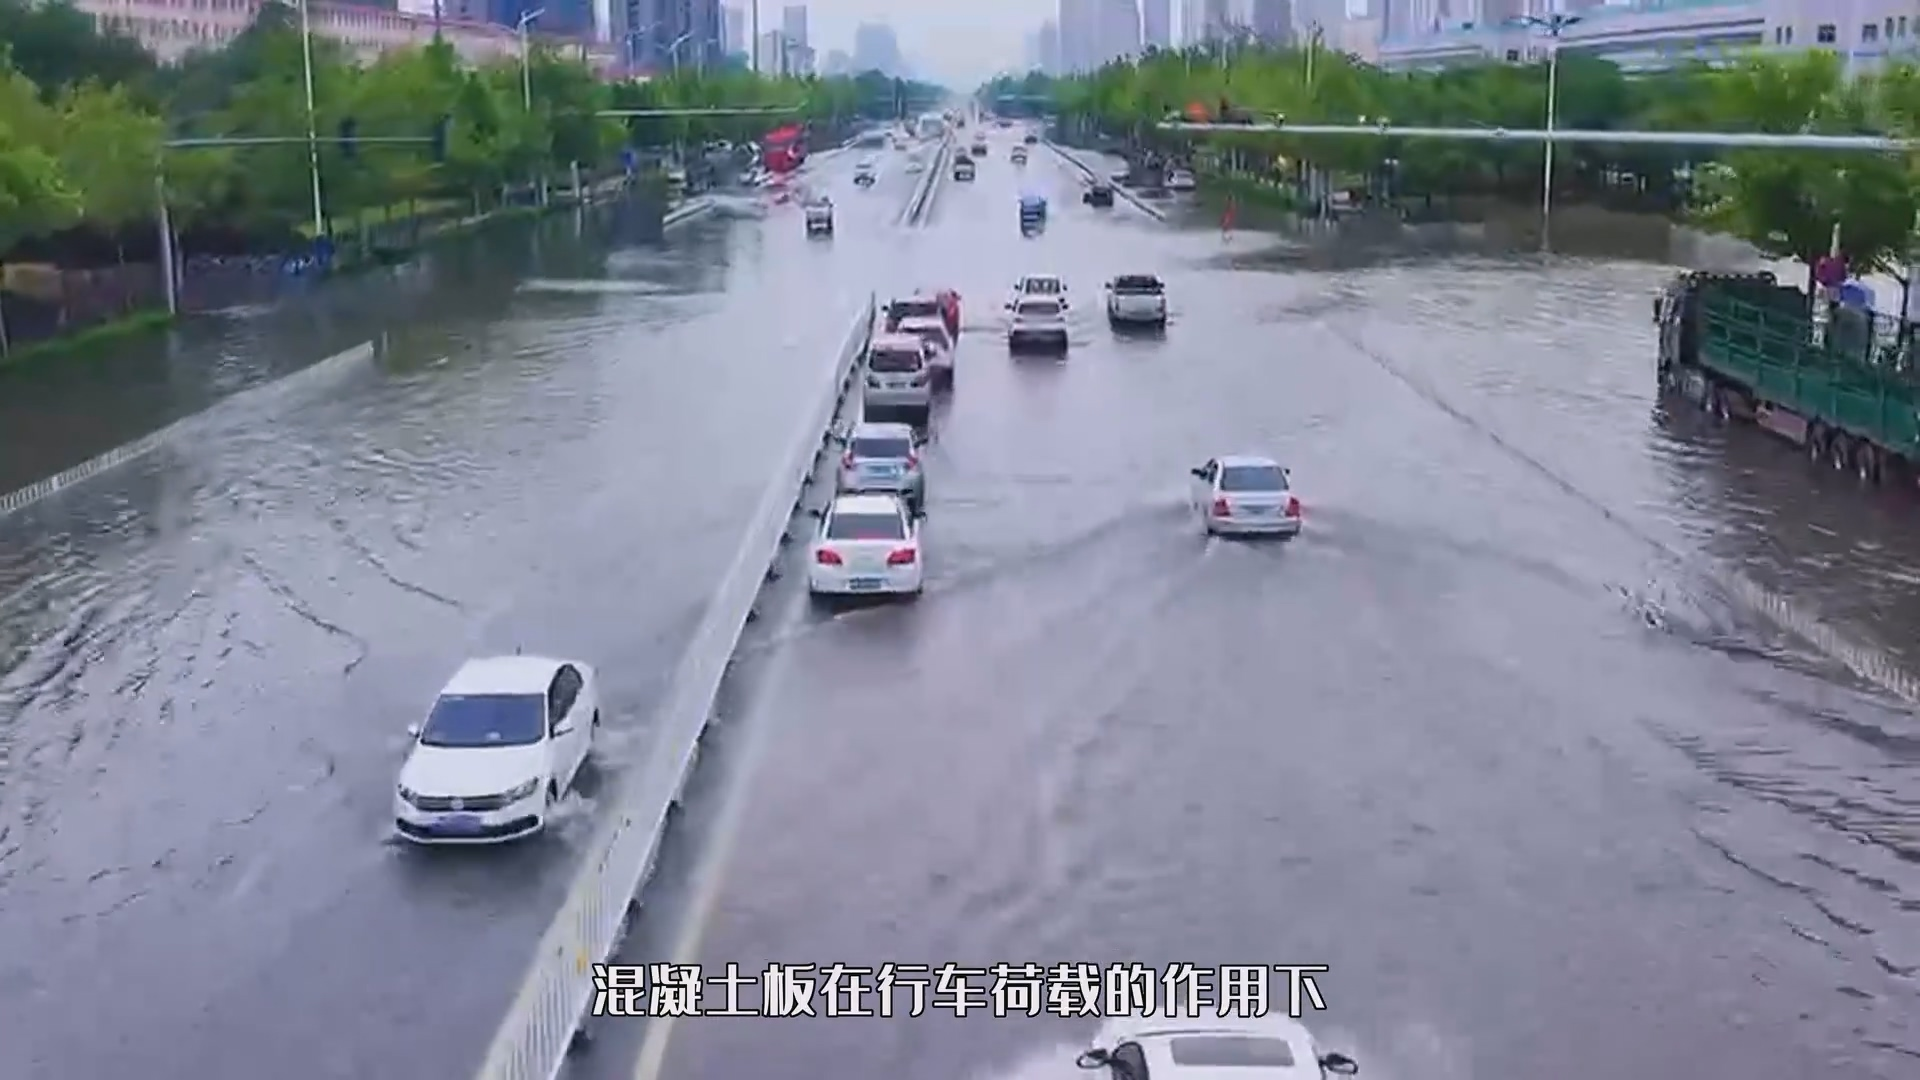puddle: (1, 330, 1920, 1080)
